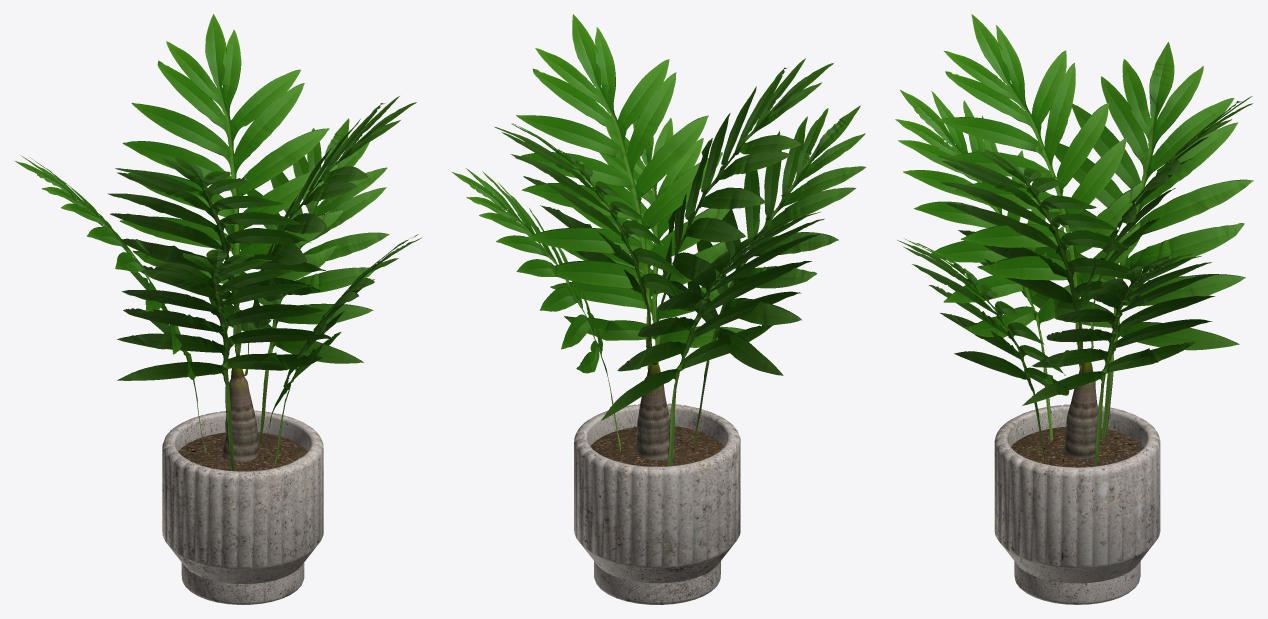
Rendered from deskPlant_KentiaPalm.fbx.
3 views of the same model, side by side, from view 1: azimuth 30°, elevation 25°; view 2: azimuth 150°, elevation 25°; view 3: azimuth 270°, elevation 25° (orthographic). The views are drawn at different scales.
Parts seen in each view (by area): view 1: geo_DeskPlant_KentiaPalm_LOD0; view 2: geo_DeskPlant_KentiaPalm_LOD0; view 3: geo_DeskPlant_KentiaPalm_LOD0.
Part boxes in pixels (<box>): geo_DeskPlant_KentiaPalm_LOD0: <box>15,14,421,604</box>; geo_DeskPlant_KentiaPalm_LOD0: <box>451,14,866,604</box>; geo_DeskPlant_KentiaPalm_LOD0: <box>895,14,1253,604</box>.
Bounding box in the file's own units: 0.4337 × 0.5955 × 0.383.
